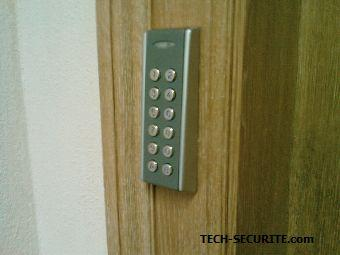digicode: (147, 66, 179, 180)
